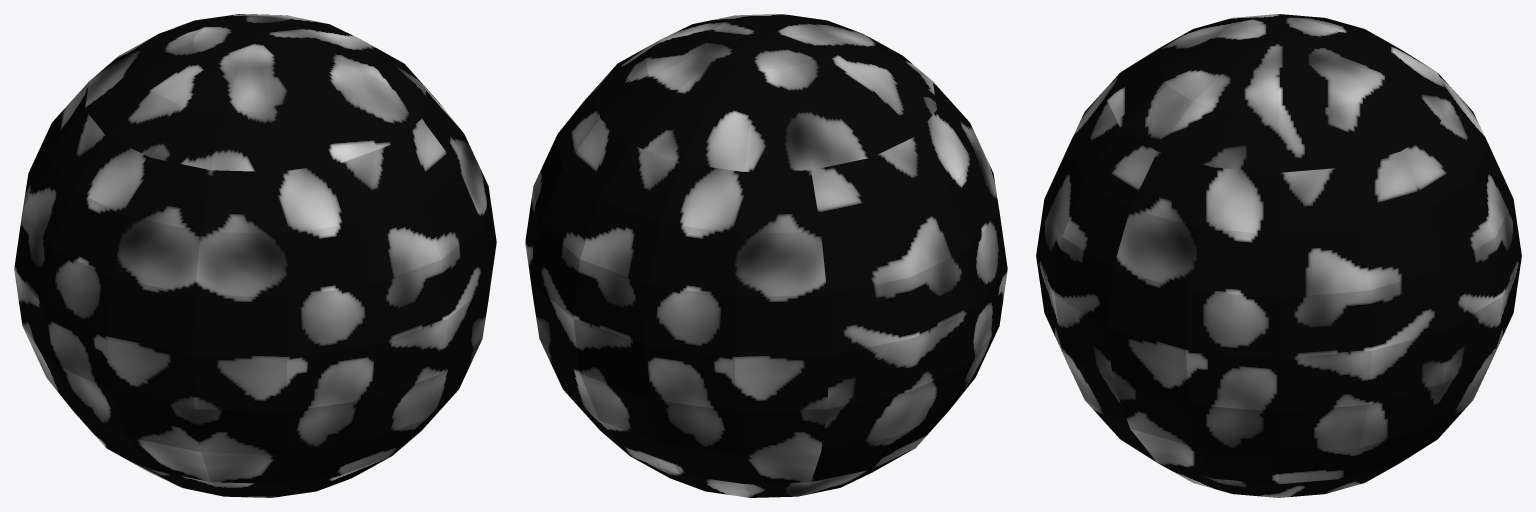
Rendered from orb_scaled.obj.
The picture shows the model from 3 angles, left to right: view 1: azimuth 30°, elevation 25°; view 2: azimuth 150°, elevation 25°; view 3: azimuth 270°, elevation 25°; orthographic projection.
Parts seen in each view (by area): view 1: Sphere_Sphere.002; view 2: Sphere_Sphere.002; view 3: Sphere_Sphere.002.
Boxes of the visible parts, left/top/right/bottom form: Sphere_Sphere.002: left=14, top=14, right=496, bottom=497; Sphere_Sphere.002: left=525, top=14, right=1007, bottom=497; Sphere_Sphere.002: left=1036, top=14, right=1521, bottom=497.
Size of the model in its own units: 1 by 1 by 1.
